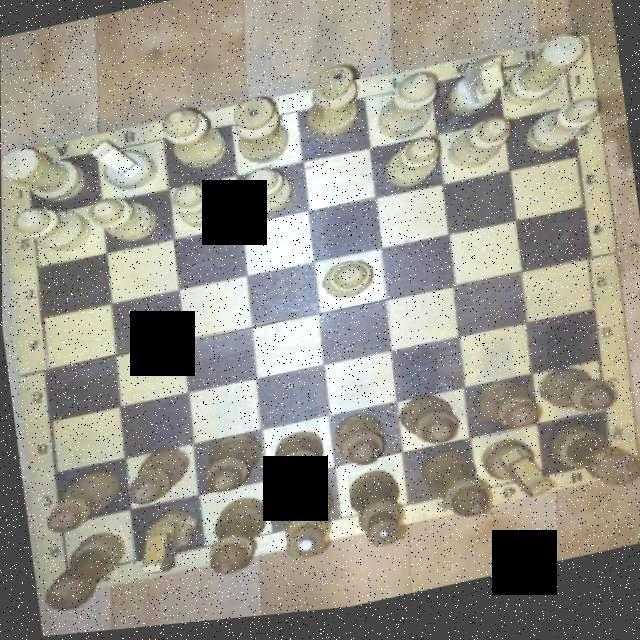chess-table-corners: (572, 443, 640, 498), (1, 141, 63, 196), (530, 44, 592, 98), (37, 548, 99, 602)
